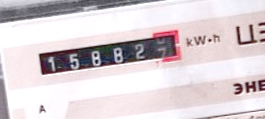1: (46, 55, 58, 74)
2: (133, 42, 146, 60)
5: (67, 52, 81, 70)
7: (156, 45, 168, 59)
8: (90, 49, 103, 67), (113, 46, 124, 63)
screen: (31, 26, 189, 81)
